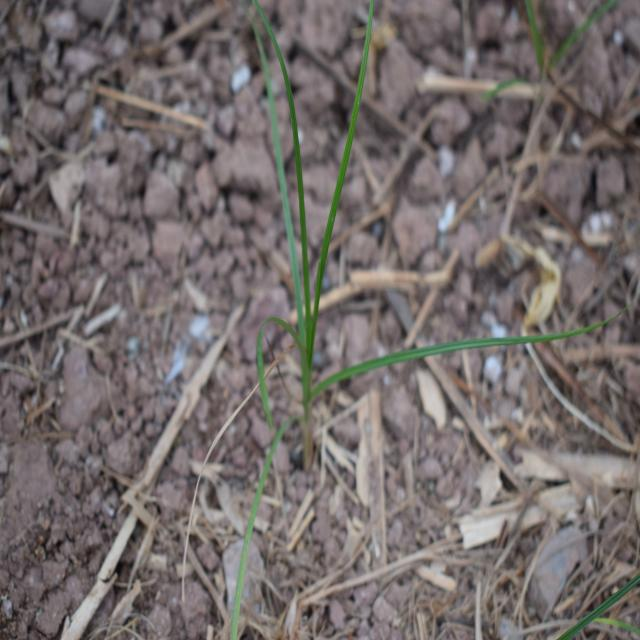sedge: (205, 5, 461, 515)
